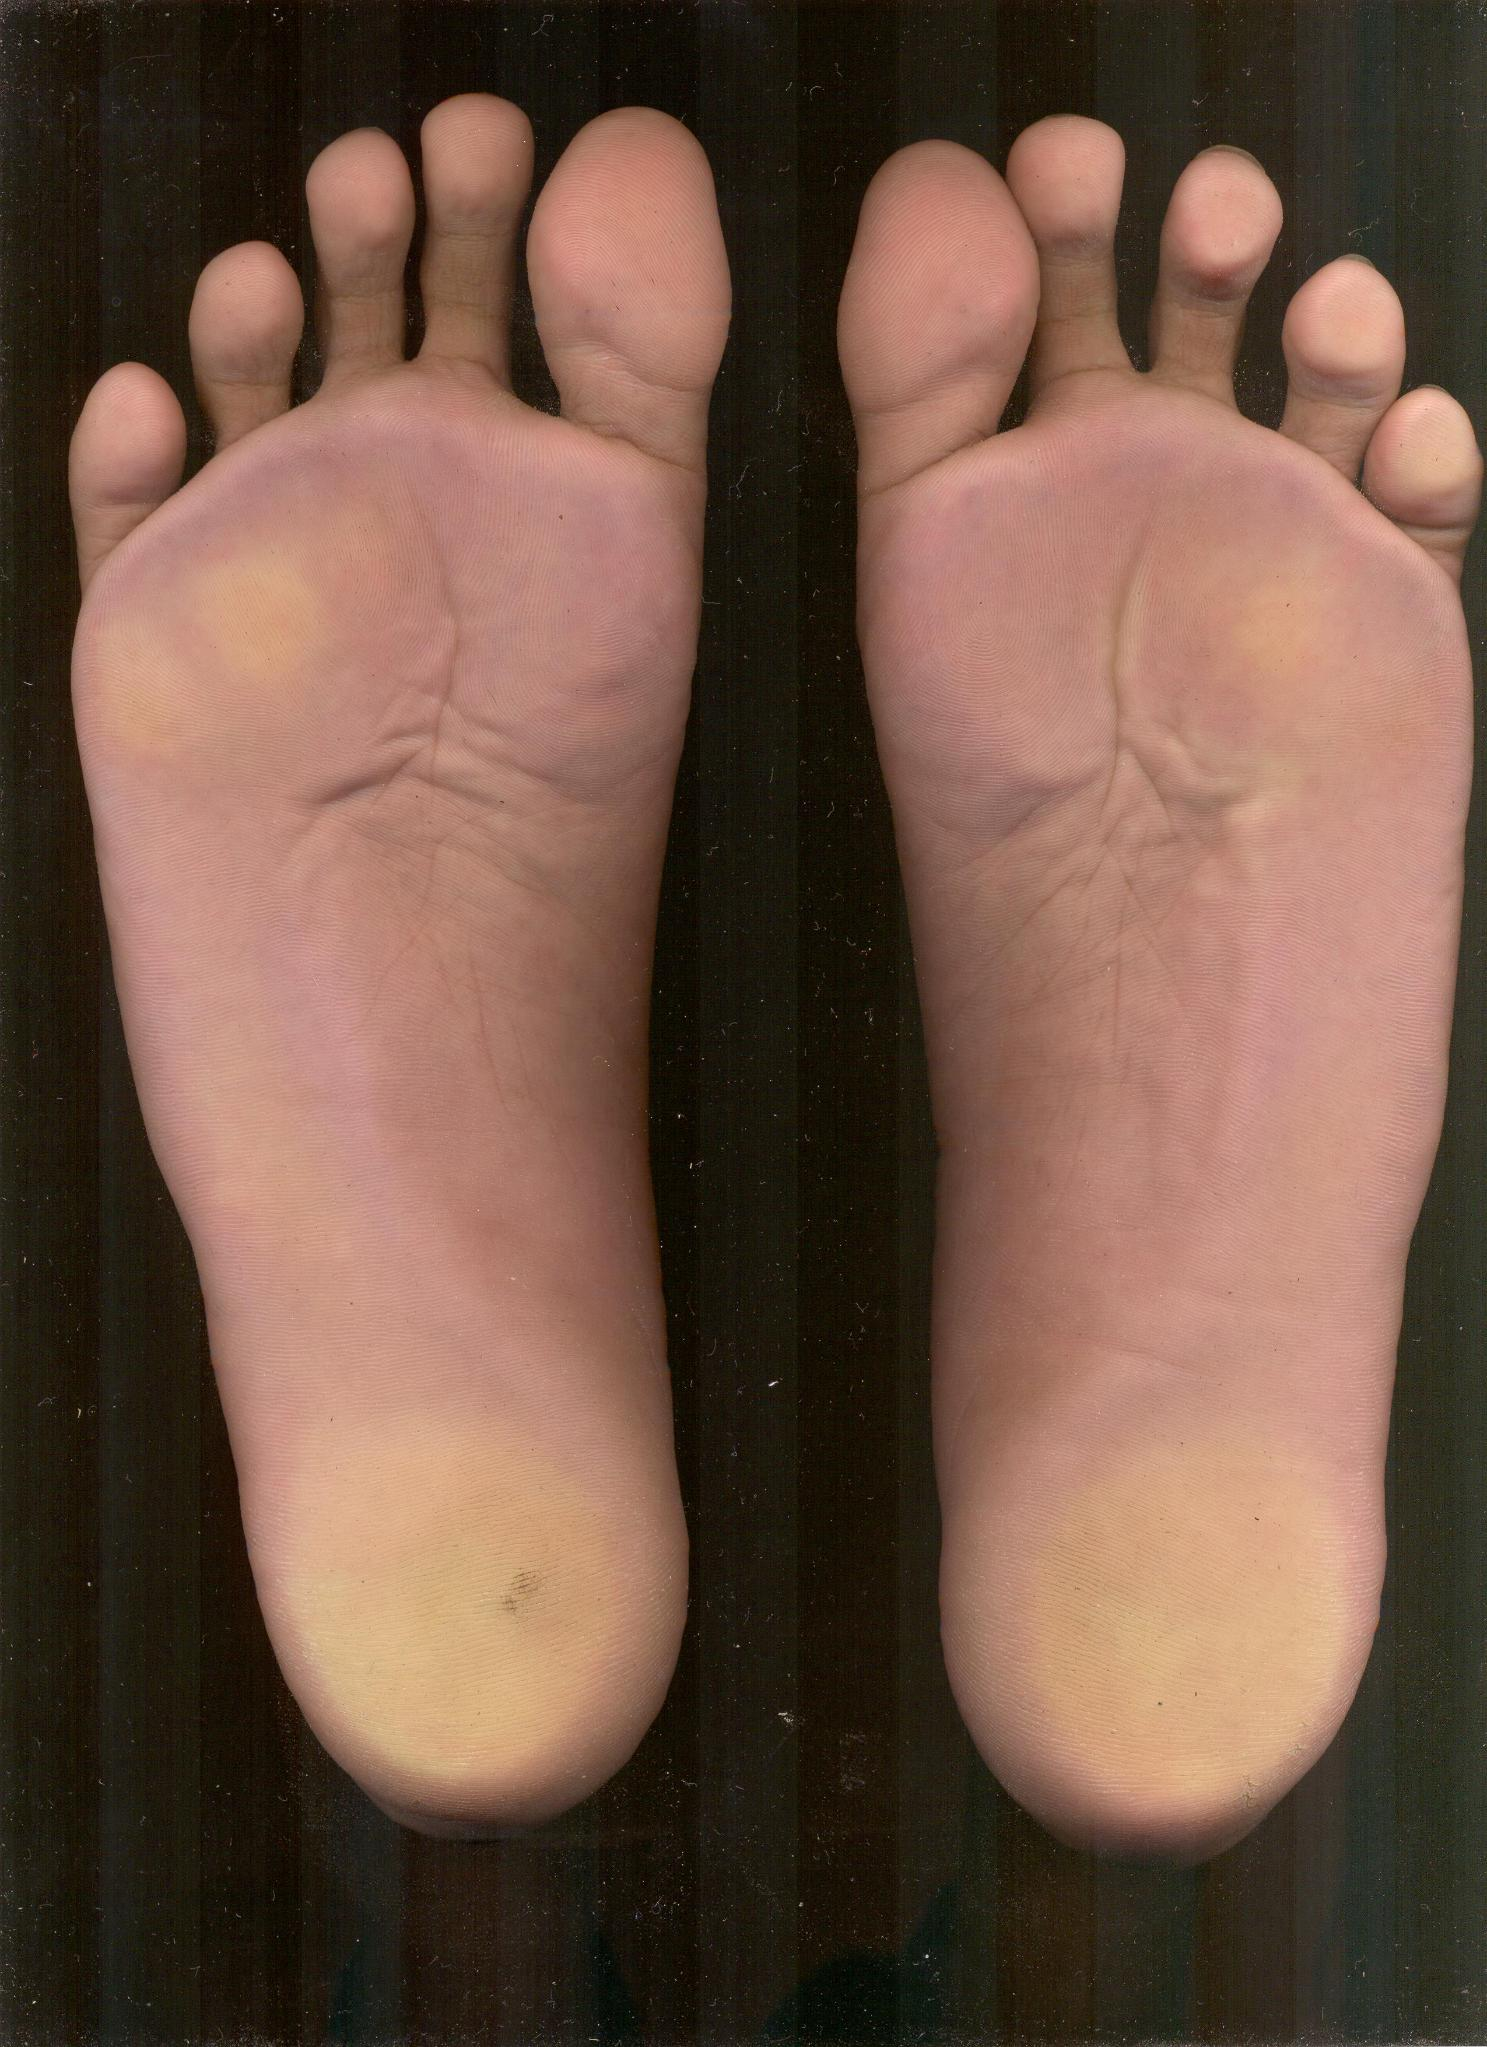Present: (54, 78, 755, 1828), (847, 99, 1487, 1883)
